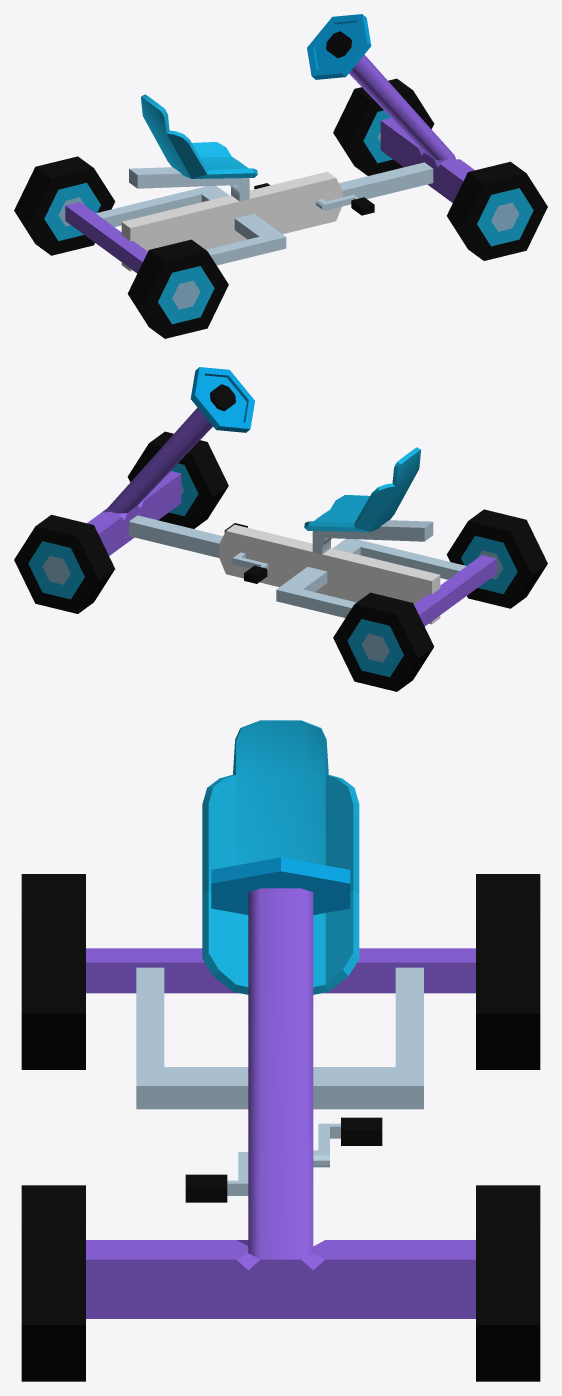
Rendered from Toycar.fbx.
3 views of the same model, one above another, from view 1: azimuth 30°, elevation 25°; view 2: azimuth 150°, elevation 25°; view 3: azimuth 270°, elevation 25° (orthographic). The views are drawn at different scales.
Visible parts, largest first — view 1: Toycar1; view 2: Toycar1; view 3: Toycar1.
Part boxes in pixels (box(x1,y1,x2,y2)): Toycar1: box(14, 14, 547, 338); Toycar1: box(14, 367, 547, 691); Toycar1: box(21, 720, 540, 1381).
Bounding box in the file's own units: 6.11 × 3.08 × 3.39.
